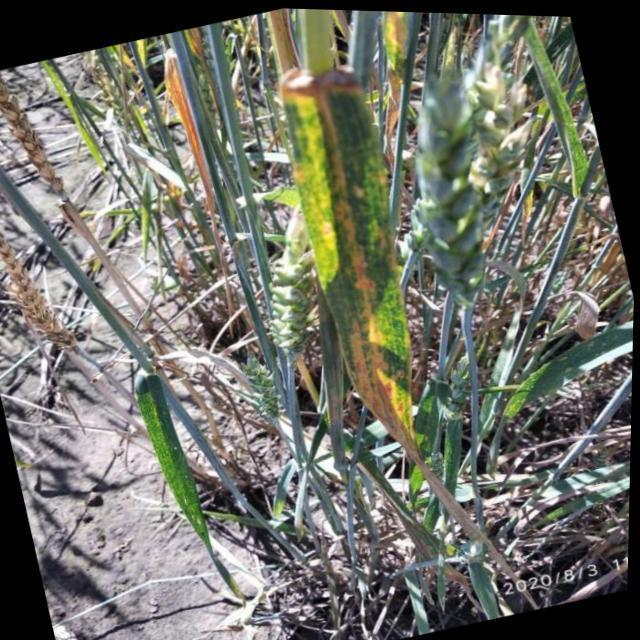Septoria: (279, 65, 482, 538)
